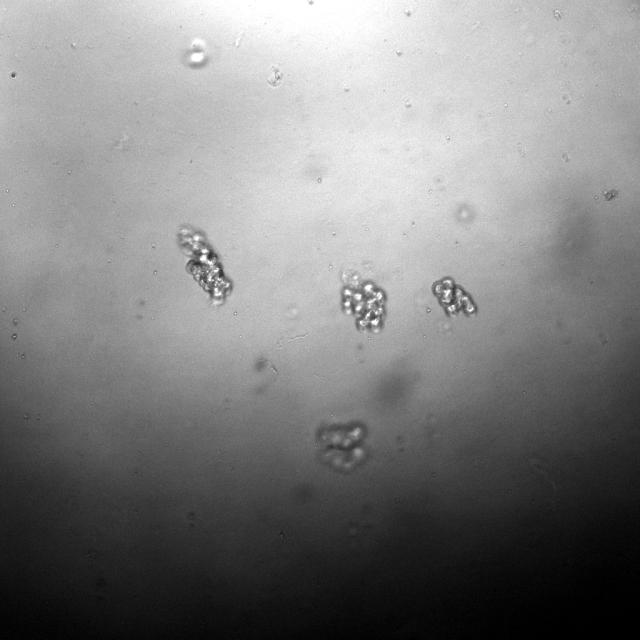organoid: (178, 225, 232, 303), (316, 420, 367, 472), (342, 278, 386, 333), (432, 277, 477, 316)
